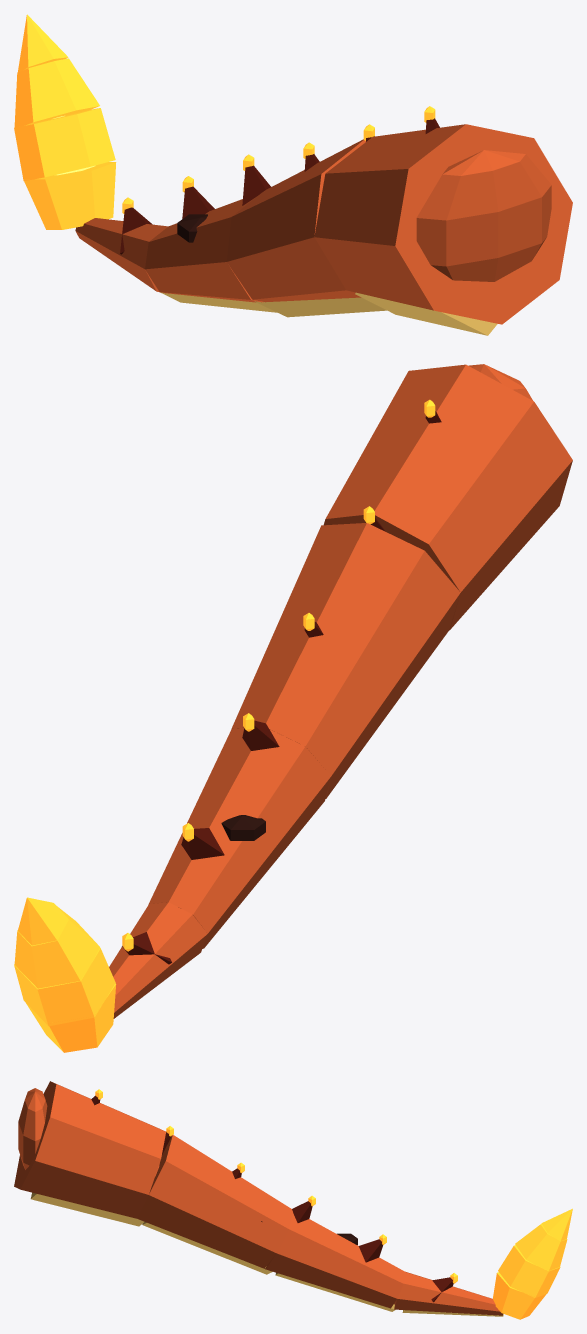
File: salamander_tail.glb
The picture shows the model from 3 angles, top to bottom: view 1: azimuth 30°, elevation 25°; view 2: azimuth 150°, elevation 25°; view 3: azimuth 270°, elevation 25°; orthographic projection. The views are drawn at different scales.
Parts seen in each view (by area): view 1: salamander_tail; view 2: salamander_tail; view 3: salamander_tail.
Boxes of the visible parts, bbox=[...] form: salamander_tail: bbox=[14, 14, 572, 335]; salamander_tail: bbox=[14, 364, 572, 1052]; salamander_tail: bbox=[14, 1081, 572, 1319].
Size of the model in its own units: 0.34 by 0.7231 by 1.57.
